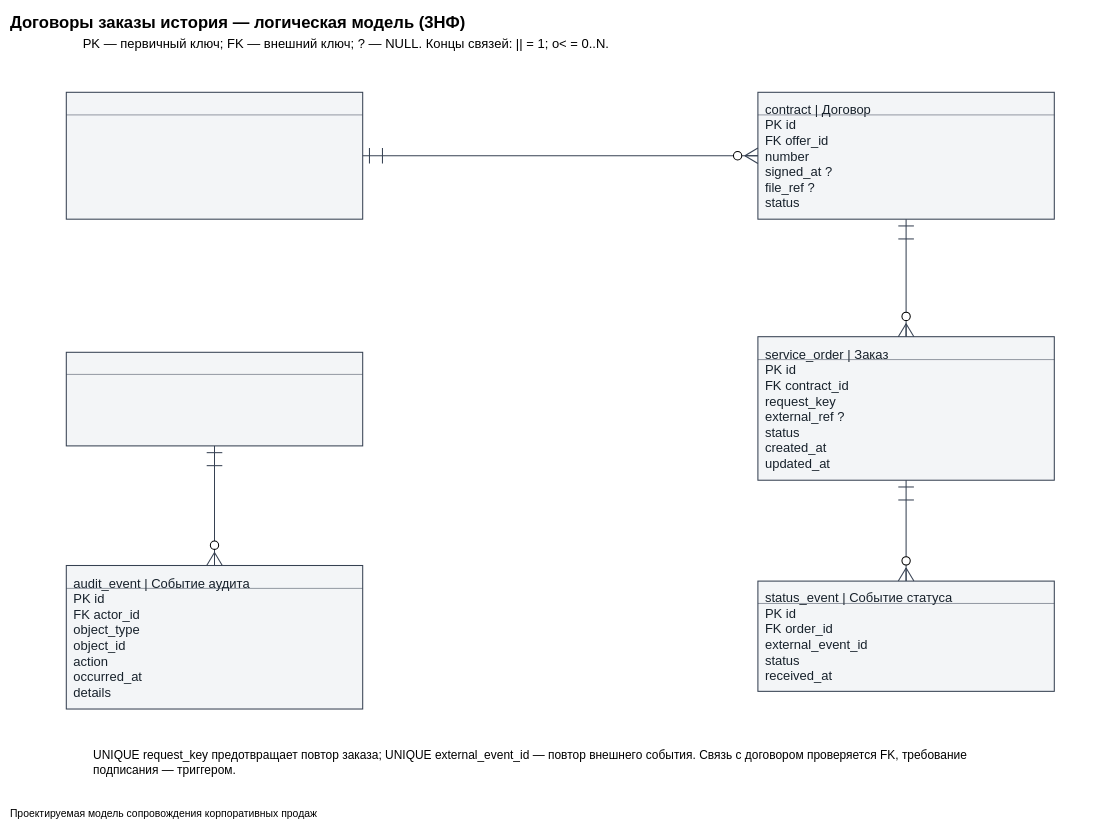
Some shapes in this 1120 by 829 pixel diagram are drawn without their labels. Here are the shapes that lost their labels. From the top down, the centre of each, then its label:
(214,155): offer | КП PK id FK deal_id FK author_id version_no status created_at
(214,399): app_user | Пользователь PK id login full_name active
